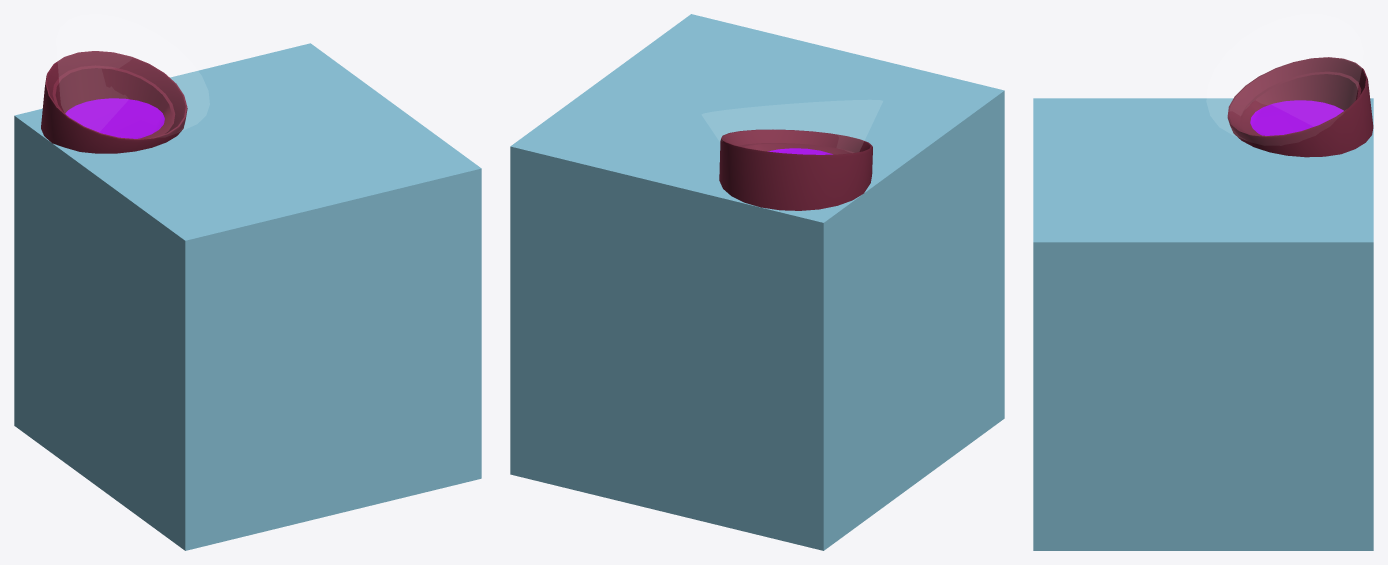
Rendered from portal-out.glb.
The picture shows the model from 3 angles, left to right: view 1: azimuth 30°, elevation 25°; view 2: azimuth 150°, elevation 25°; view 3: azimuth 270°, elevation 25°; orthographic projection. The views are drawn at different scales.
Parts seen in each view (by area): view 1: tyle-test.001, portal; view 2: tyle-test.001, portal; view 3: tyle-test.001, portal.
Boxes of the visible parts, x1,y1,x2,y2 form: tyle-test.001: (14, 43, 481, 550); portal: (41, 51, 187, 153); tyle-test.001: (510, 14, 1004, 550); portal: (719, 129, 872, 210); tyle-test.001: (1033, 98, 1373, 550); portal: (1227, 57, 1373, 157).
Size of the model in its own units: 1 by 1.3 by 1.
